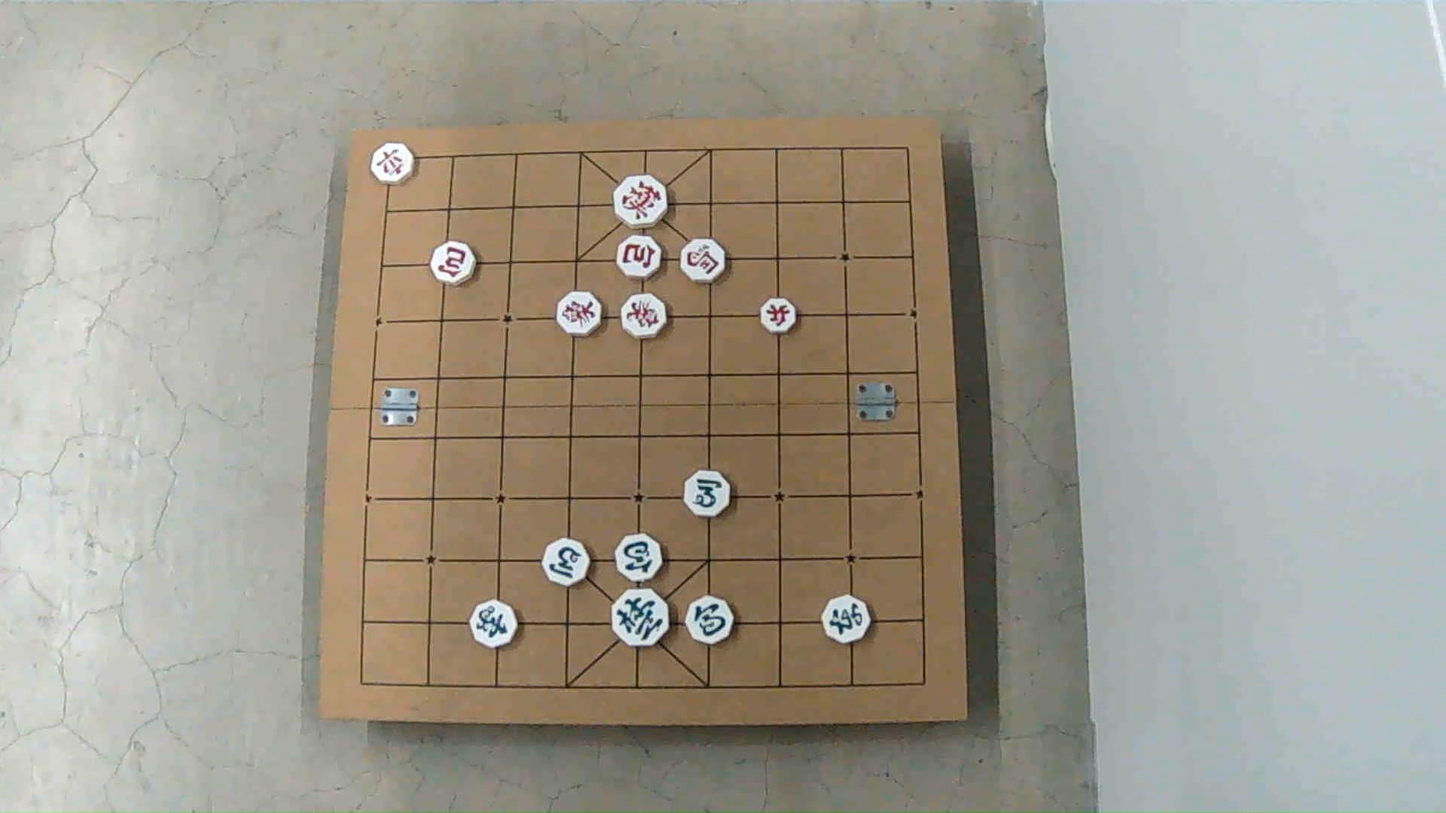cha_green: (822, 596, 869, 643)
cha_red: (371, 144, 414, 184)
jol_red: (760, 299, 796, 335)
ma_green: (683, 468, 731, 516), (541, 537, 589, 584)
ma_red: (682, 239, 728, 282)
po_green: (615, 533, 663, 582), (686, 598, 734, 646)
po_red: (618, 234, 663, 278), (430, 242, 476, 285)
sang_green: (470, 599, 517, 647)
sang_red: (555, 294, 601, 338), (622, 296, 667, 340)
wang_green: (612, 589, 671, 647)
wang_red: (615, 177, 669, 227)
